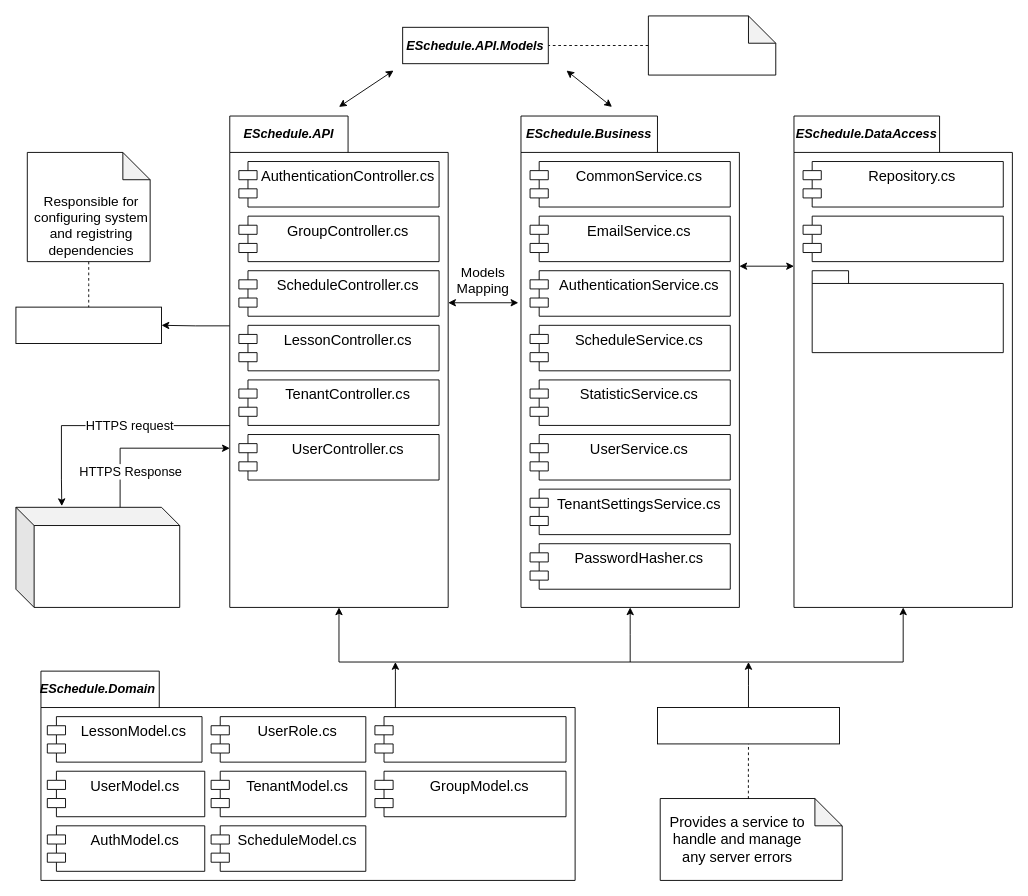
This 1028x896 diagram has some shape labels left out. The shapes that lost their labels are listed below. From the top down, each one's box as (x1, y1, x2, y2) in pixels, then its label:
(647, 15, 776, 75): Request and Update versions of Domain models
(802, 215, 1003, 262): EscheduleDbContext.cs
(15, 306, 162, 344): ESchedule.Startup
(811, 270, 1003, 353): DB Migrations
(15, 506, 180, 607): Web/Mobile Client
(374, 716, 566, 762): TenantSettingsModel.cs
(657, 707, 839, 744): ESchedule .ServiceResulting
